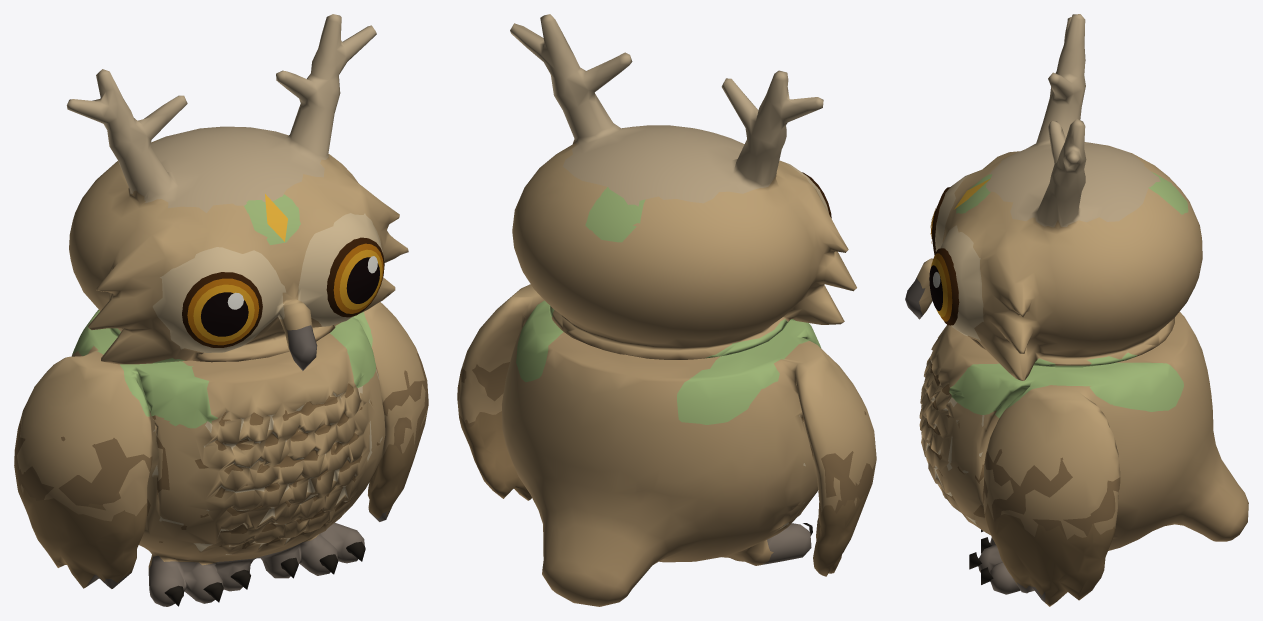
Rendered from cragowl.glb.
The picture shows the model from 3 angles, left to right: view 1: azimuth 30°, elevation 25°; view 2: azimuth 150°, elevation 25°; view 3: azimuth 270°, elevation 25°; orthographic projection. The views are drawn at different scales.
Visible parts, largest first — view 1: body, eyes; view 2: body; view 3: body, eyes.
Boxes of the visible parts, box(x1,y1,x2,y2) form: body: box(14, 14, 428, 606); eyes: box(164, 194, 384, 606); body: box(457, 14, 876, 606); body: box(905, 14, 1248, 606); eyes: box(929, 178, 993, 584).
Size of the model in its own units: 0.9128 by 1.16 by 0.7418.
